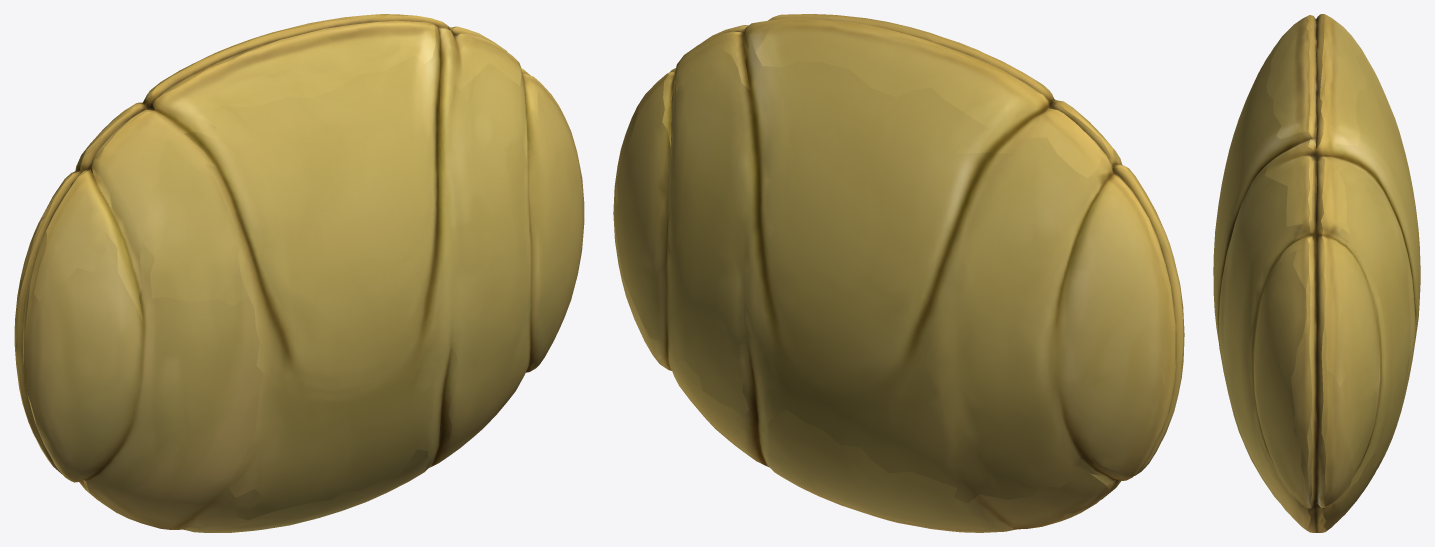
3 renders of one model, left to right at view 1: azimuth 30°, elevation 25°; view 2: azimuth 150°, elevation 25°; view 3: azimuth 270°, elevation 25°, orthographic. The views are drawn at different scales.
Visible parts, largest first — view 1: world; view 2: world; view 3: world.
Boxes of the visible parts, <box> form: world: <box>14,14,584,532</box>; world: <box>613,14,1184,532</box>; world: <box>1213,14,1420,532</box>.
Size of the model in its own units: 0.022 by 0.0184 by 0.00779.
1 material, 1 textured.
